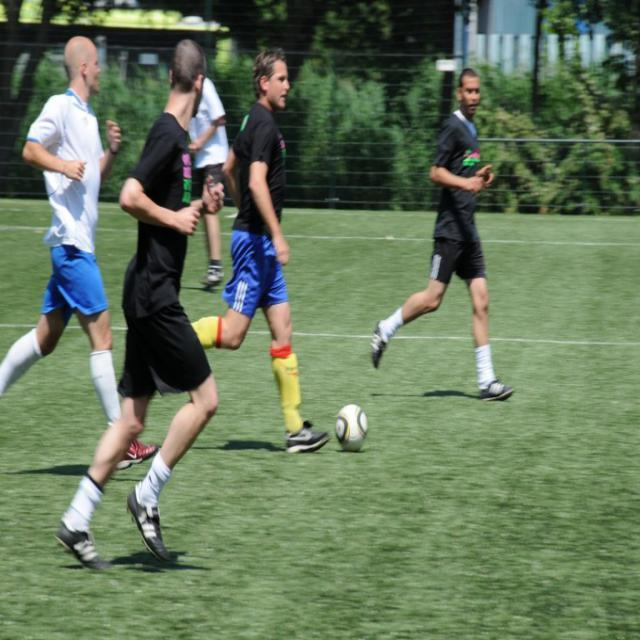Football: (333, 401, 368, 452), (335, 402, 369, 452)
